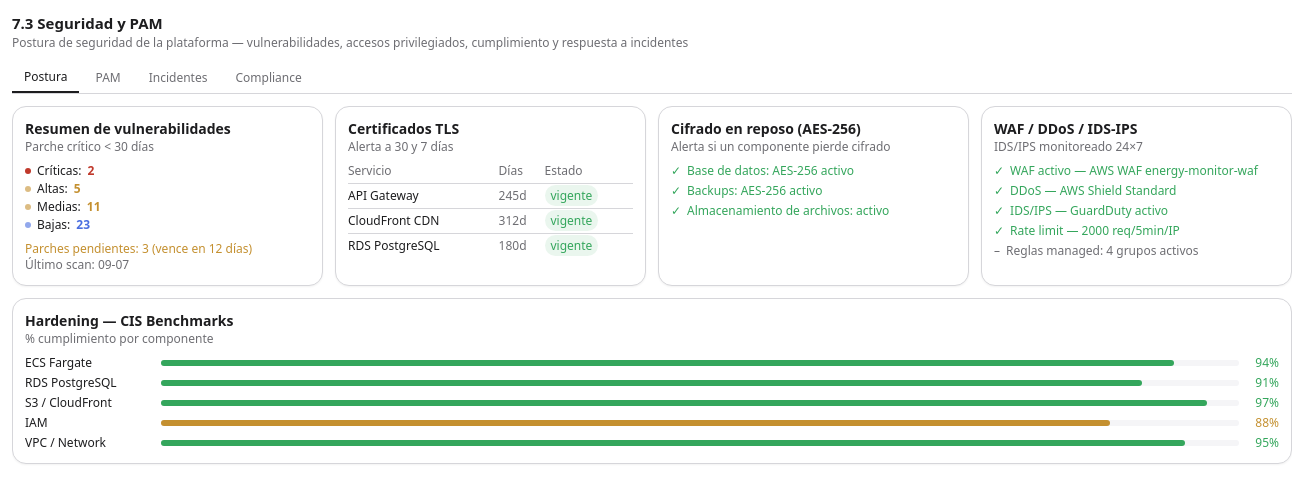
SeguridadPamPage › renders PAM accounts section
Click the button "PAM": (108, 78) top-left (84, 62), bottom-right (133, 92)
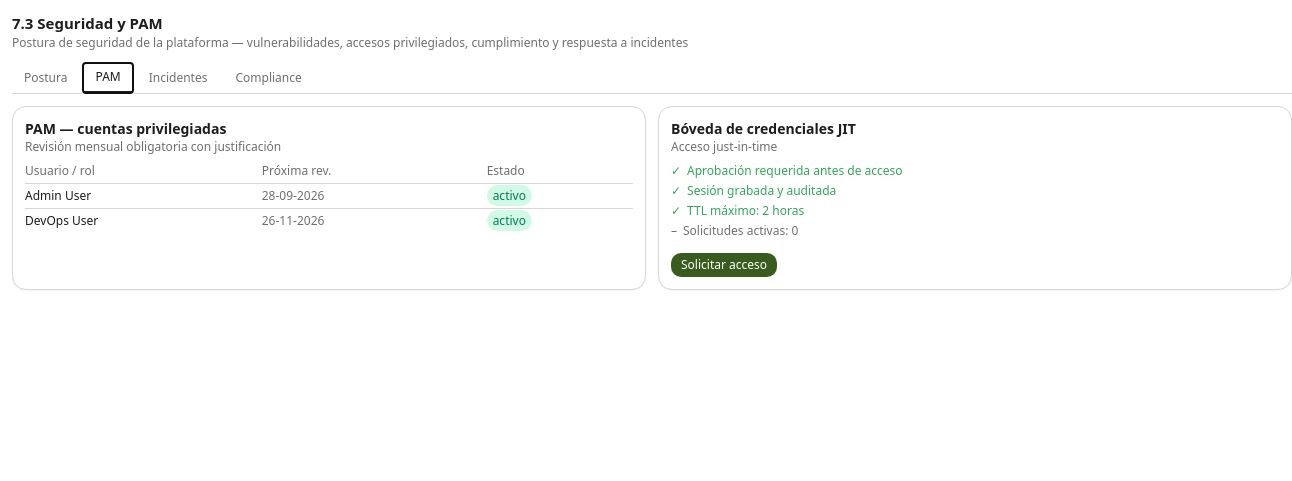
Result: the heading "PAM — cuentas privilegiadas" is shown at top-left (25, 118), bottom-right (226, 138)
